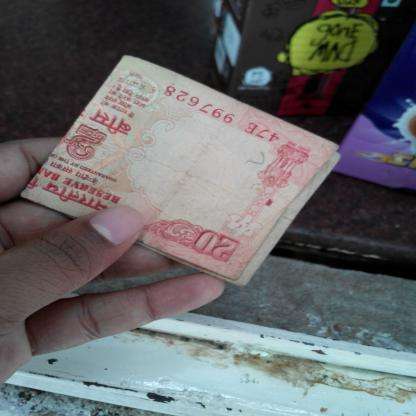Old20Front: (25, 54, 312, 271)
